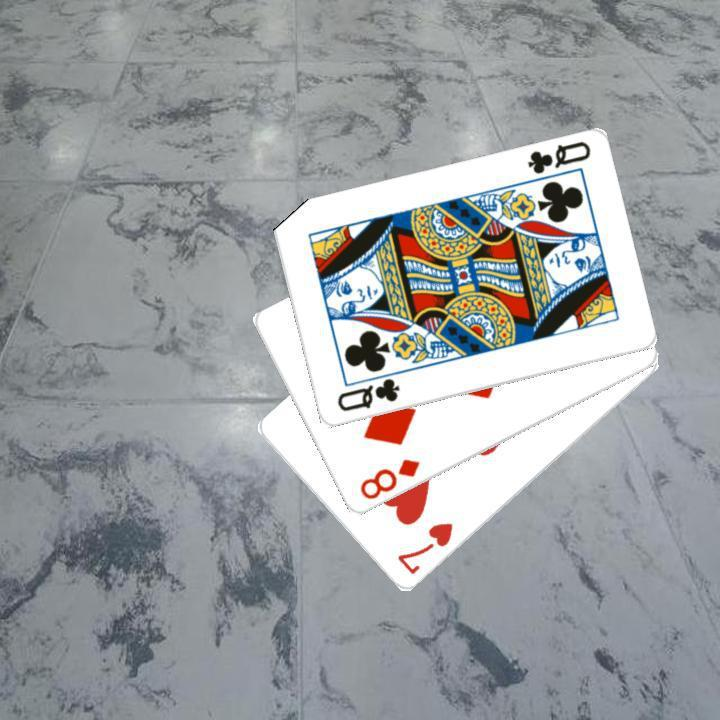7: (392, 518, 455, 578)
8: (355, 454, 422, 502)
Q: (332, 374, 402, 414), (523, 137, 593, 177)
